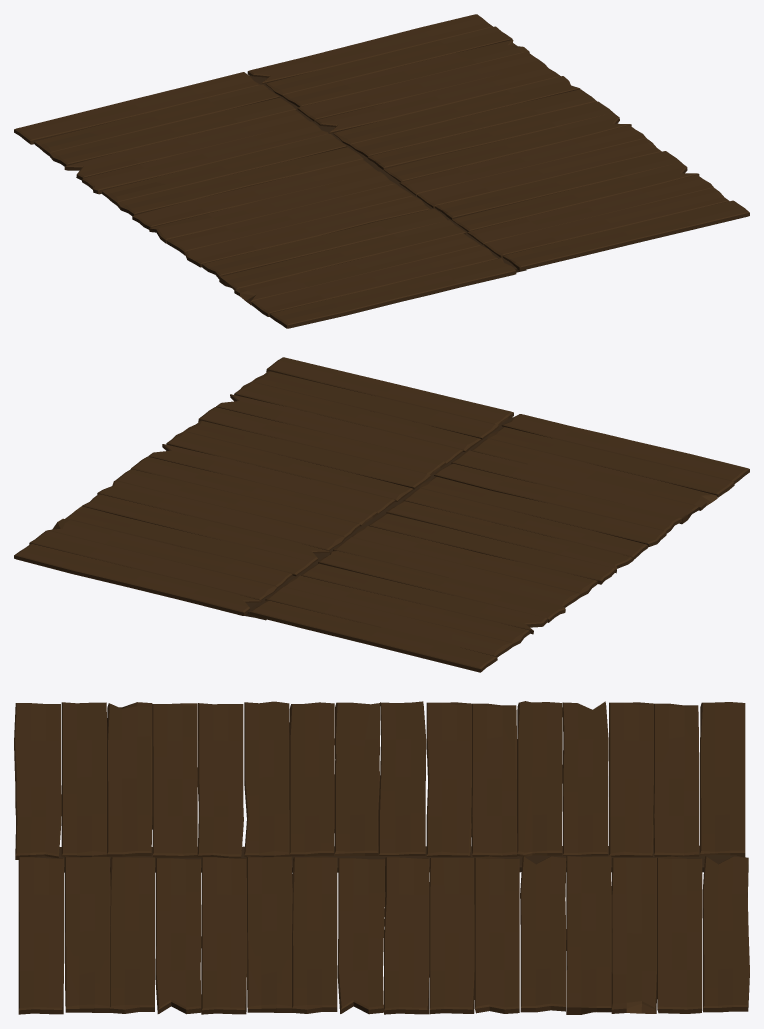
File: Wooden Dock.fbx
The picture shows the model from 3 angles, top to bottom: view 1: azimuth 30°, elevation 25°; view 2: azimuth 150°, elevation 25°; view 3: azimuth 270°, elevation 25°; orthographic projection. The views are drawn at different scales.
Parts seen in each view (by area): view 1: wood.033; view 2: wood.033; view 3: wood.033.
Part boxes in pixels (<box>): wood.033: <box>14,14,749,328</box>; wood.033: <box>14,357,749,672</box>; wood.033: <box>14,701,749,1014</box>.
Size of the model in its own units: 1058 by 17.63 by 1063.
